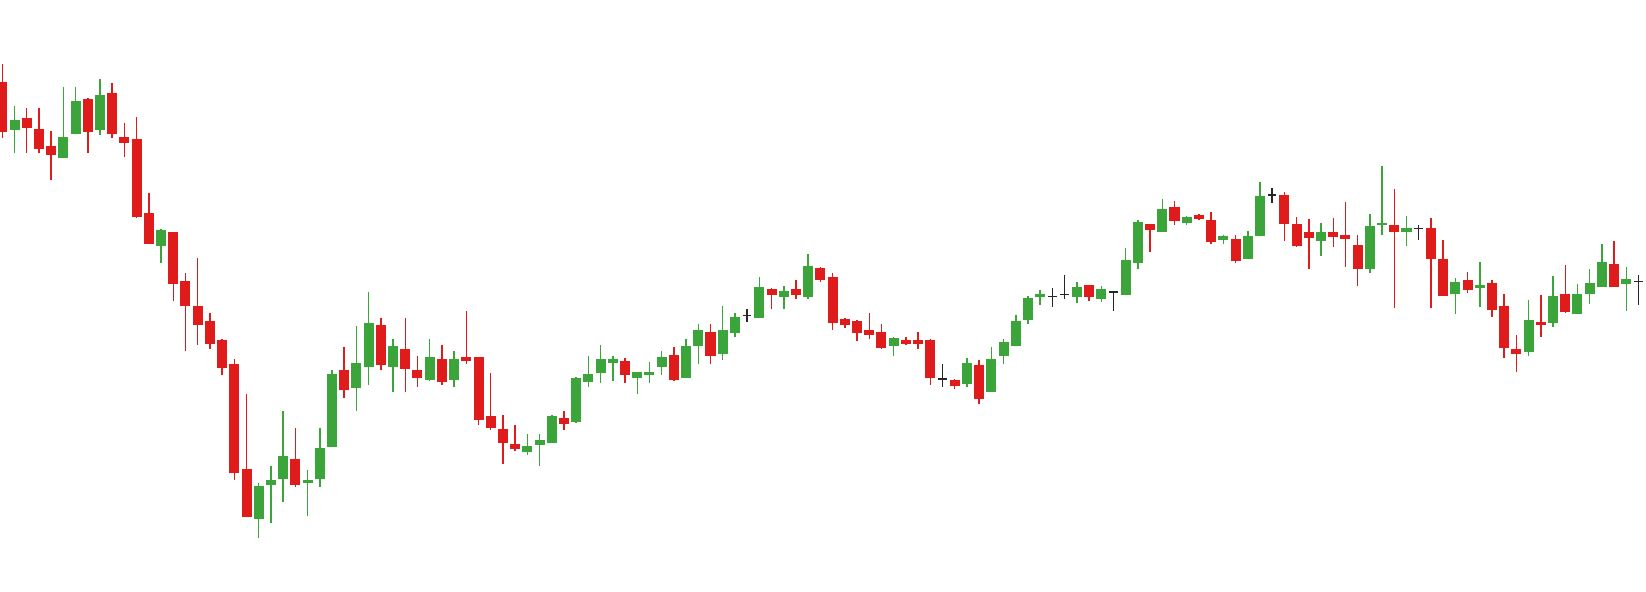sell: (1252, 161, 1387, 252), (398, 308, 471, 381)
